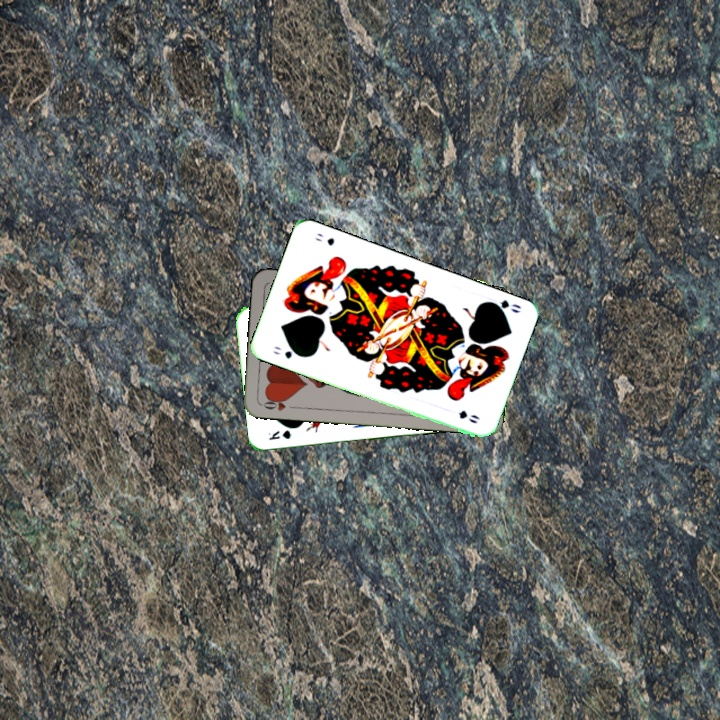GK: (264, 426, 294, 443)
GO: (483, 296, 524, 316), (269, 342, 305, 361)
HO: (258, 394, 299, 413)
